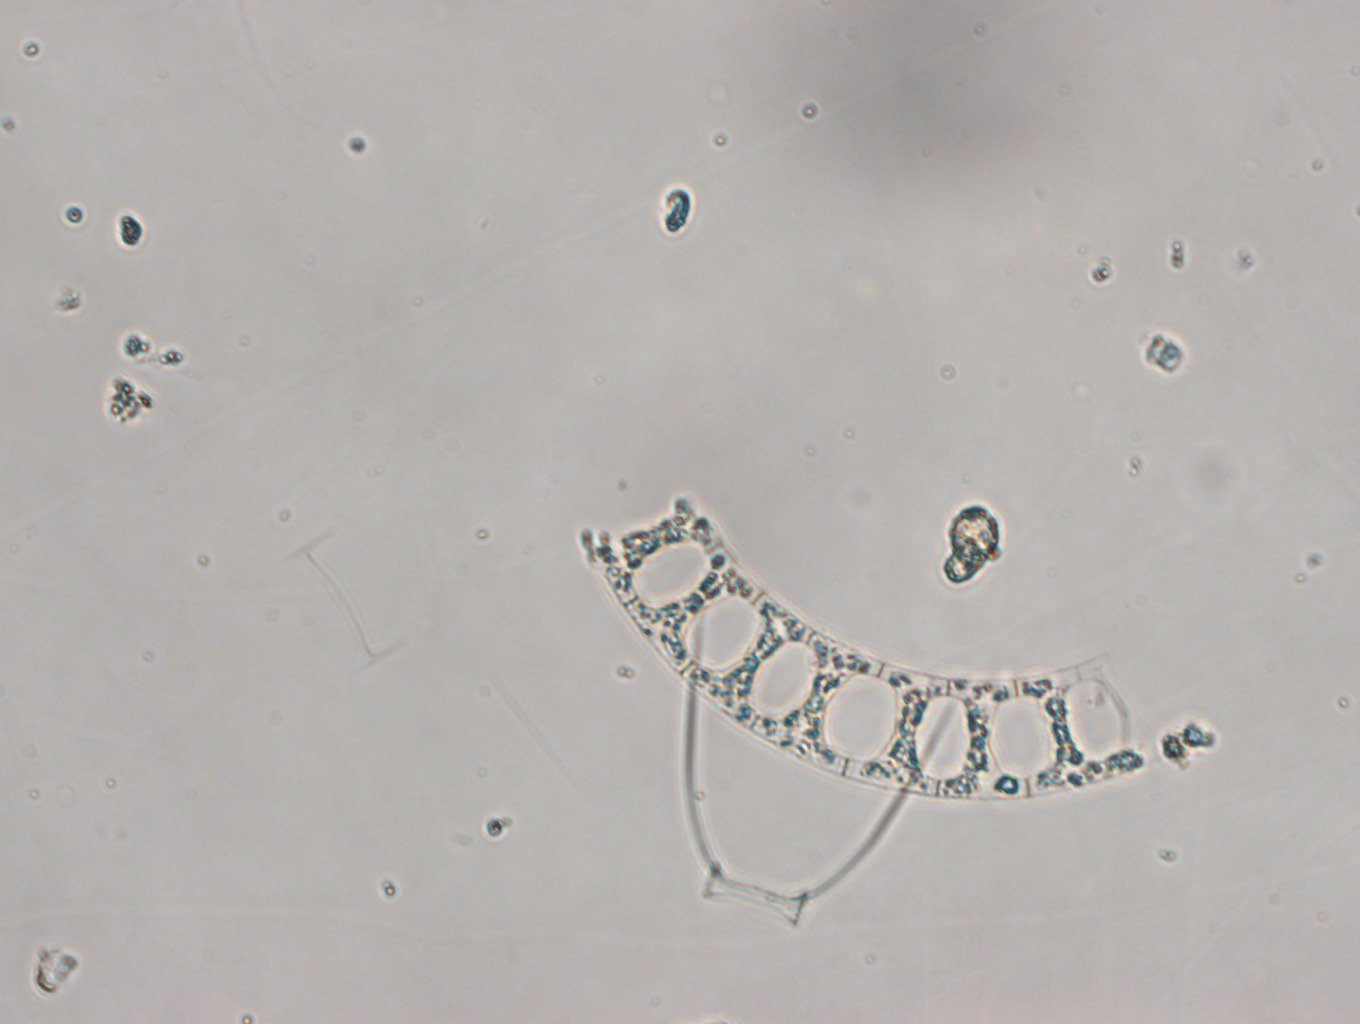chaetoceros: (679, 609, 953, 928)
eucampia: (577, 496, 1209, 801)
